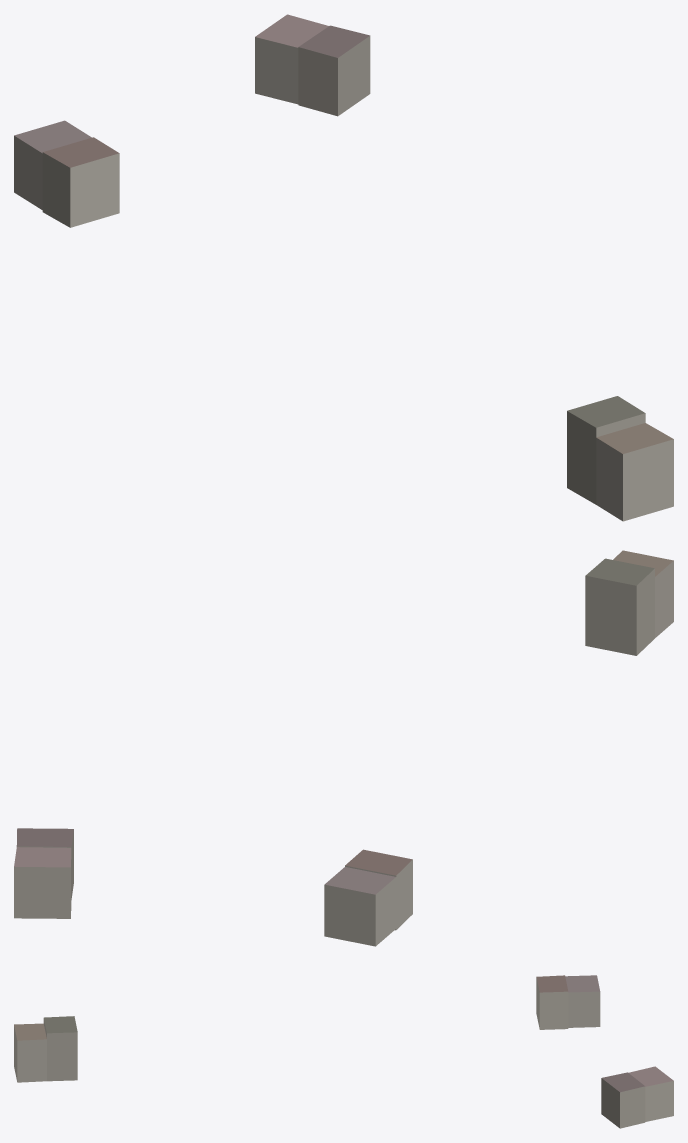
3 views of the same model, one above another, from view 1: azimuth 30°, elevation 25°; view 2: azimuth 150°, elevation 25°; view 3: azimuth 270°, elevation 25° (orthographic). The views are drawn at different scales.
Parts seen in each view (by area): view 1: tuile; view 2: tuile; view 3: tuile.
Part boxes in pixels (x1=…): tuile: x1=14, y1=14, x2=673, y2=521; tuile: x1=14, y1=550, x2=673, y2=946; tuile: x1=14, y1=975, x2=673, y2=1128.
Bounding box in the file's own units: 24.5 × 4.94 × 60.
